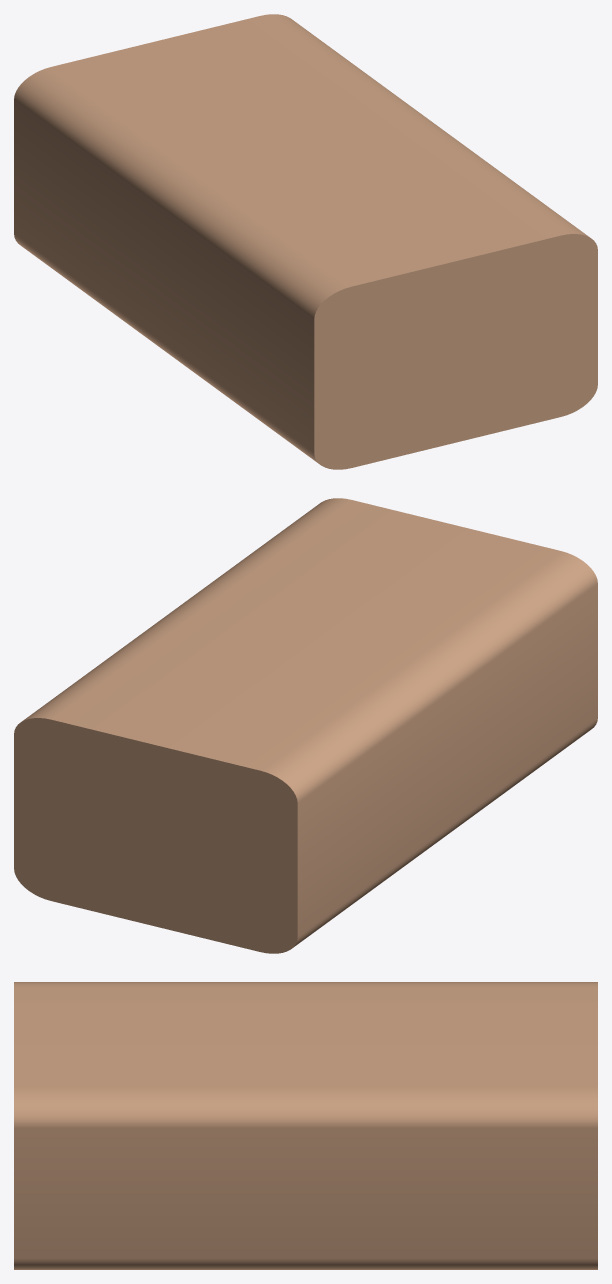
File: wall.FBX
3 renders of one model, top to bottom at view 1: azimuth 30°, elevation 25°; view 2: azimuth 150°, elevation 25°; view 3: azimuth 270°, elevation 25°, orthographic. The views are drawn at different scales.
Visible parts, largest first — view 1: Wall_Block_A__1_; view 2: Wall_Block_A__1_; view 3: Wall_Block_A__1_.
Boxes of the visible parts, x1,y1,x2,y2 form: Wall_Block_A__1_: (14, 14, 597, 469); Wall_Block_A__1_: (14, 498, 597, 953); Wall_Block_A__1_: (14, 982, 597, 1269).
Bounding box in the file's own units: 709 × 433 × 1299.
